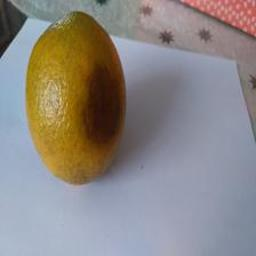Orange Semirotten: (23, 17, 145, 186)
